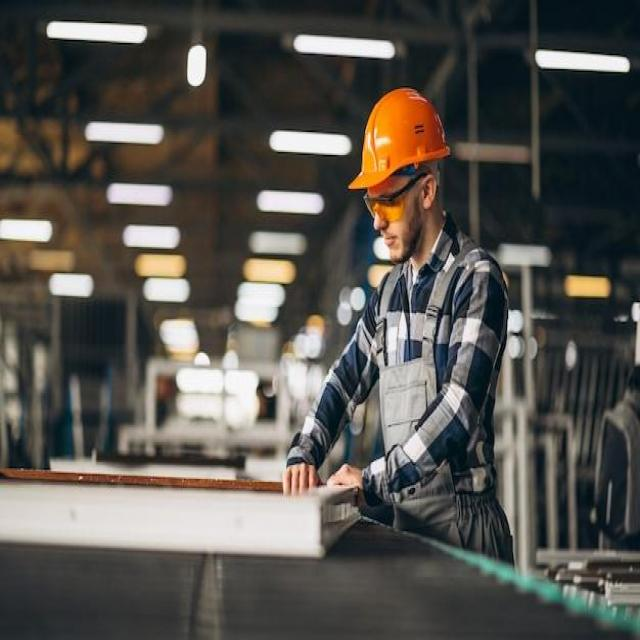Safety-Helmet: (346, 83, 452, 198)
